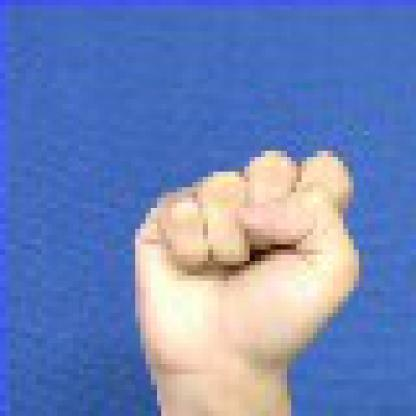zero: (84, 99, 406, 396)
